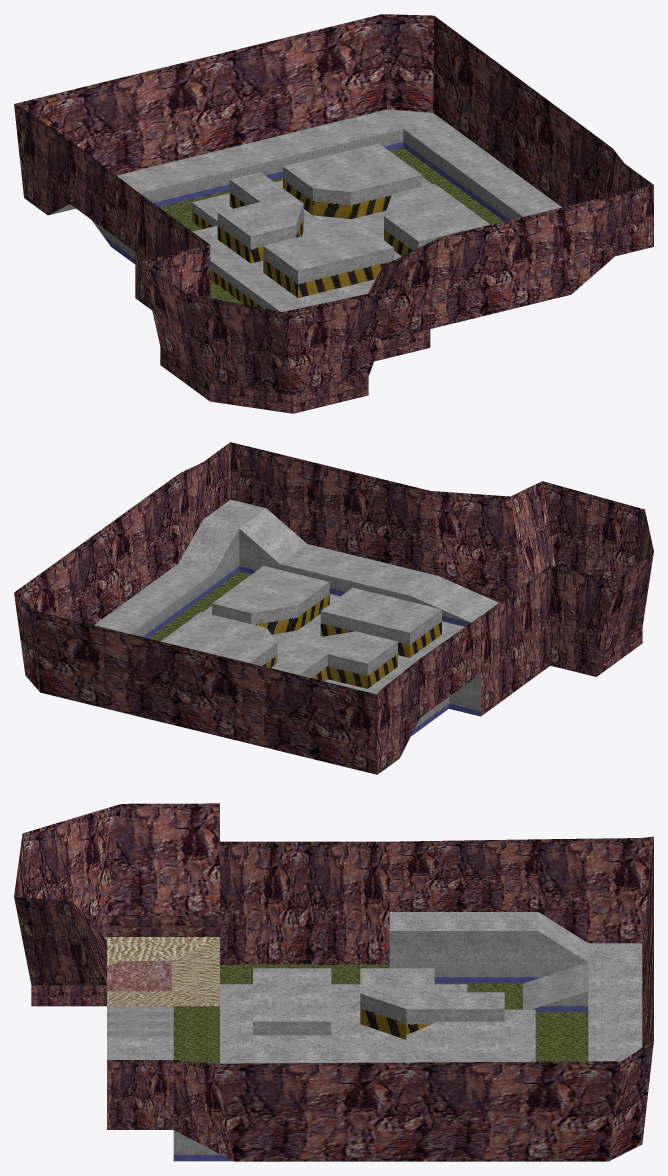
Rendered from arena.glb.
The picture shows the model from 3 angles, top to bottom: view 1: azimuth 30°, elevation 25°; view 2: azimuth 150°, elevation 25°; view 3: azimuth 270°, elevation 25°; orthographic projection. The views are drawn at different scales.
Parts seen in each view (by area): view 1: col_arena; view 2: col_arena; view 3: col_arena.
Boxes of the visible parts, bbox=[...] form: col_arena: bbox=[14, 14, 653, 413]; col_arena: bbox=[14, 442, 653, 774]; col_arena: bbox=[14, 803, 653, 1161].
Size of the model in its own units: 143 by 32.98 by 148.
Materials: 8 (8 with a texture image).
